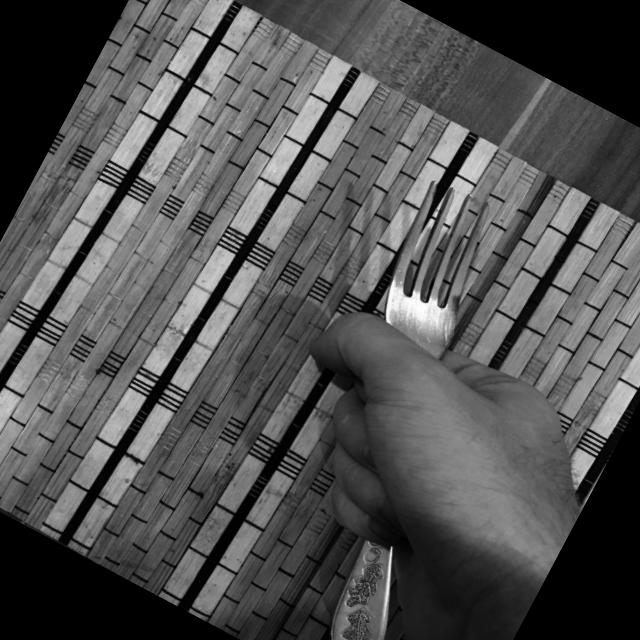fork: (205, 172, 589, 640)
